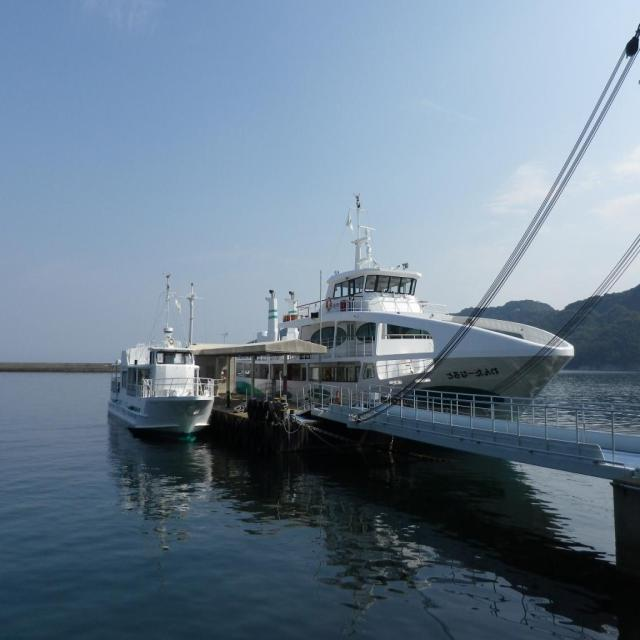houseboat: (234, 213, 585, 400), (103, 308, 214, 436)
